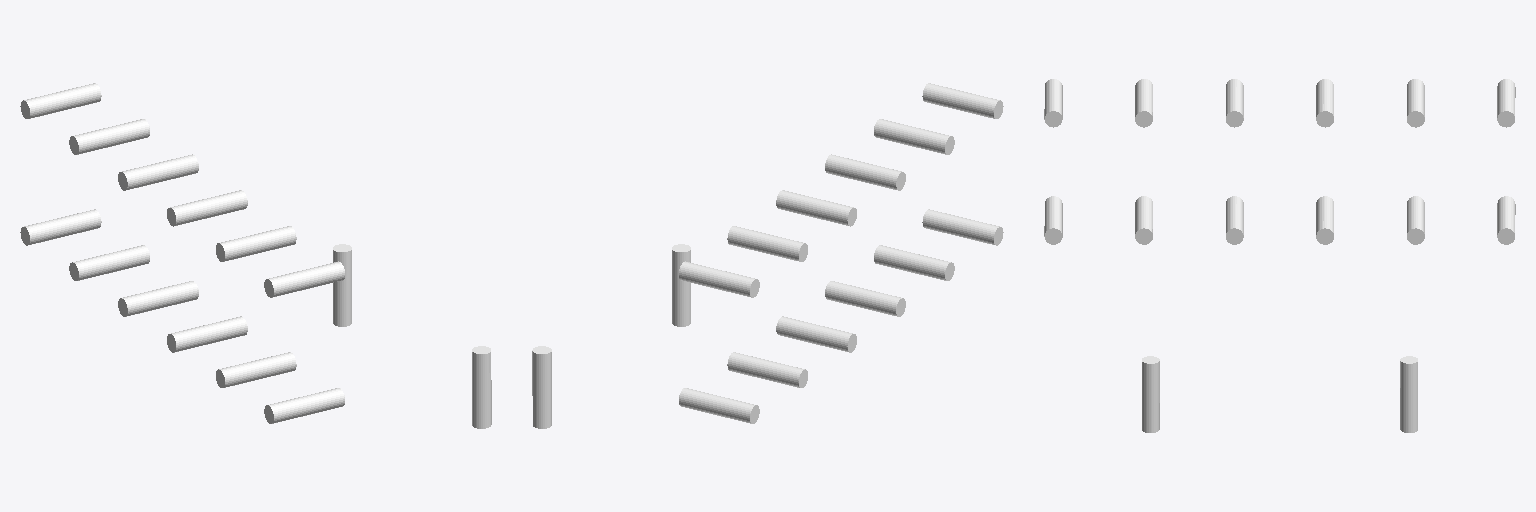
robot.urdf — ring_peg:
<?xml version="0.0" ?>
<robot name="ring_peg">
    <material name="WHITE">
        <color rgba="1 1 1 1"/>
    </material>

    <link name="baseLink">
        <!-- from lego/lego.urdf -->
        <inertial>
            <origin rpy="0 0 0" xyz="0 0 0"/>
            <mass value="10.0"/>
            <inertia ixx="1" ixy="0" ixz="0" iyy="1" iyz="0" izz="1"/>
        </inertial>
        <visual>
            <origin rpy="1.57 0 0" xyz="0 -1 0.4"/>
            <geometry>
                <!--        radius: 10mm, depth: 14.5mm-->
                <box size="0 0 0"/>
                <!--        <box size="0.002 0.002 0.002"/>-->
            </geometry>
            <material name="WHITE"/>
        </visual>
        <collision>
            <origin rpy="1.57 0 0" xyz="0 -1 0.4"/>
            <geometry>
                <box size="0 0 0"/>
                       <!-- <box size="2 2 2"/> -->
            </geometry>
        </collision>
    </link>

    <link name="vertical_peg_1">
        <!-- from lego/lego.urdf -->
        <inertial>
            <origin rpy="0 0 0" xyz="0 0 0"/>
            <mass value="10.0"/>
            <inertia ixx="1" ixy="0" ixz="0" iyy="1" iyz="0" izz="1"/>
        </inertial>
        <visual>
            <origin rpy="0 0 0" xyz="0 0 0"/>
            <geometry>
                <!--        radius: 10mm, depth: 14.5mm-->
                <mesh filename="meshes/ring_peg.obj" scale="0.75 0.75 0.75"/>
                <!--        <box size="0.002 0.002 0.002"/>-->
            </geometry>
            <material name="WHITE"/>
        </visual>
        <collision>
            <origin rpy="0 0 0" xyz="0 0 0"/>
            <geometry>
                <mesh filename="meshes/ring_peg_collision.obj" scale="0.75 0.75 0.75"/>
                       <!-- <box size="2 2 2"/> -->
            </geometry>
        </collision>
    </link>

    <joint name="vertical_joint_1" type="fixed">
        <parent link="baseLink"/>
        <child link="vertical_peg_1"/>
        <origin rpy="1.57 0 0" xyz="0 -1 0.4"/>
    </joint>

    <link name="vertical_peg_2">
        <!-- from lego/lego.urdf -->
        <inertial>
            <origin rpy="0 0 0" xyz="0 0 0"/>
            <mass value="10.0"/>
            <inertia ixx="1" ixy="0" ixz="0" iyy="1" iyz="0" izz="1"/>
        </inertial>
        <visual>
            <origin rpy="0 0 0" xyz="0 0 0"/>
            <geometry>
                <!--        radius: 10mm, depth: 14.5mm-->
                <mesh filename="meshes/ring_peg.obj" scale="0.75 0.75 0.75"/>
                <!--        <box size="0.002 0.002 0.002"/>-->
            </geometry>
            <material name="WHITE"/>
        </visual>
        <collision>
            <origin rpy="0 0 0" xyz="0 0 0"/>
            <geometry>
                <mesh filename="meshes/ring_peg_collision.obj" scale="0.75 0.75 0.75"/>
                       <!-- <box size="2 2 2"/> -->
            </geometry>
        </collision>
    </link>

    <joint name="vertical_joint_2" type="fixed">
        <parent link="baseLink"/>
        <child link="vertical_peg_2"/>
        <origin rpy="1.57 0 0" xyz="0 1 0.4"/>
    </joint>

    <link name="horizontal_peg_1">
        <!-- from lego/lego.urdf -->
        <inertial>
            <origin rpy="0 0 0" xyz="0 0 0"/>
            <mass value="10.0"/>
            <inertia ixx="1" ixy="0" ixz="0" iyy="1" iyz="0" izz="1"/>
        </inertial>
        <visual>
            <origin rpy="0 0 0" xyz="0 0 0"/>
            <geometry>
                <!--        radius: 10mm, depth: 14.5mm-->
                <mesh filename="meshes/ring_peg.obj" scale="0.75 0.75 0.75"/>
                <!--        <box size="0.002 0.002 0.002"/>-->
            </geometry>
            <material name="WHITE"/>
        </visual>
        <collision>
            <origin rpy="0 0 0" xyz="0 0 0"/>
            <geometry>
                <mesh filename="meshes/ring_peg_collision.obj" scale="0.75 0.75 0.75"/>
                       <!-- <box size="2 2 2"/> -->
            </geometry>
        </collision>
    </link>

    <joint name="horizontal_joint_1" type="fixed">
        <parent link="baseLink"/>
        <child link="horizontal_peg_1"/>
        <origin rpy="0 0 1.57" xyz="-1.9 -1.75 2"/>
    </joint>

    <link name="horizontal_peg_2">
        <!-- from lego/lego.urdf -->
        <inertial>
            <origin rpy="0 0 0" xyz="0 0 0"/>
            <mass value="10.0"/>
            <inertia ixx="1" ixy="0" ixz="0" iyy="1" iyz="0" izz="1"/>
        </inertial>
        <visual>
            <origin rpy="0 0 0" xyz="0 0 0"/>
            <geometry>
                <!--        radius: 10mm, depth: 14.5mm-->
                <mesh filename="meshes/ring_peg.obj" scale="0.75 0.75 0.75"/>
                <!--        <box size="0.002 0.002 0.002"/>-->
            </geometry>
            <material name="WHITE"/>
        </visual>
        <collision>
            <origin rpy="0 0 0" xyz="0 0 0"/>
            <geometry>
                <mesh filename="meshes/ring_peg_collision.obj" scale="0.75 0.75 0.75"/>
                       <!-- <box size="2 2 2"/> -->
            </geometry>
        </collision>
    </link>

    <joint name="horizontal_joint_2" type="fixed">
        <parent link="baseLink"/>
        <child link="horizontal_peg_2"/>
        <origin rpy="0 0 1.57" xyz="-1.9 -1.05 2"/>
    </joint>

    <link name="horizontal_peg_3">
        <!-- from lego/lego.urdf -->
        <inertial>
            <origin rpy="0 0 0" xyz="0 0 0"/>
            <mass value="10.0"/>
            <inertia ixx="1" ixy="0" ixz="0" iyy="1" iyz="0" izz="1"/>
        </inertial>
        <visual>
            <origin rpy="0 0 0" xyz="0 0 0"/>
            <geometry>
                <!--        radius: 10mm, depth: 14.5mm-->
                <mesh filename="meshes/ring_peg.obj" scale="0.75 0.75 0.75"/>
                <!--        <box size="0.002 0.002 0.002"/>-->
            </geometry>
            <material name="WHITE"/>
        </visual>
        <collision>
            <origin rpy="0 0 0" xyz="0 0 0"/>
            <geometry>
                <mesh filename="meshes/ring_peg_collision.obj" scale="0.75 0.75 0.75"/>
                       <!-- <box size="2 2 2"/> -->
            </geometry>
        </collision>
    </link>

    <joint name="horizontal_joint_3" type="fixed">
        <parent link="baseLink"/>
        <child link="horizontal_peg_3"/>
        <origin rpy="0 0 1.57" xyz="-1.9 -0.35 2"/>
    </joint>

    <link name="horizontal_peg_4">
        <!-- from lego/lego.urdf -->
        <inertial>
            <origin rpy="0 0 0" xyz="0 0 0"/>
            <mass value="10.0"/>
            <inertia ixx="1" ixy="0" ixz="0" iyy="1" iyz="0" izz="1"/>
        </inertial>
        <visual>
            <origin rpy="0 0 0" xyz="0 0 0"/>
            <geometry>
                <!--        radius: 10mm, depth: 14.5mm-->
                <mesh filename="meshes/ring_peg.obj" scale="0.75 0.75 0.75"/>
                <!--        <box size="0.002 0.002 0.002"/>-->
            </geometry>
            <material name="WHITE"/>
        </visual>
        <collision>
            <origin rpy="0 0 0" xyz="0 0 0"/>
            <geometry>
                <mesh filename="meshes/ring_peg_collision.obj" scale="0.75 0.75 0.75"/>
                       <!-- <box size="2 2 2"/> -->
            </geometry>
        </collision>
    </link>

    <joint name="horizontal_joint_4" type="fixed">
        <parent link="baseLink"/>
        <child link="horizontal_peg_4"/>
        <origin rpy="0 0 1.57" xyz="-1.9 0.35 2"/>
    </joint>

    <link name="horizontal_peg_5">
        <!-- from lego/lego.urdf -->
        <inertial>
            <origin rpy="0 0 0" xyz="0 0 0"/>
            <mass value="10.0"/>
            <inertia ixx="1" ixy="0" ixz="0" iyy="1" iyz="0" izz="1"/>
        </inertial>
        <visual>
            <origin rpy="0 0 0" xyz="0 0 0"/>
            <geometry>
                <!--        radius: 10mm, depth: 14.5mm-->
                <mesh filename="meshes/ring_peg.obj" scale="0.75 0.75 0.75"/>
                <!--        <box size="0.002 0.002 0.002"/>-->
            </geometry>
            <material name="WHITE"/>
        </visual>
        <collision>
            <origin rpy="0 0 0" xyz="0 0 0"/>
            <geometry>
                <mesh filename="meshes/ring_peg_collision.obj" scale="0.75 0.75 0.75"/>
                       <!-- <box size="2 2 2"/> -->
            </geometry>
        </collision>
    </link>

    <joint name="horizontal_joint_5" type="fixed">
        <parent link="baseLink"/>
        <child link="horizontal_peg_5"/>
        <origin rpy="0 0 1.57" xyz="-1.9 1.05 2"/>
    </joint>

    <link name="horizontal_peg_6">
        <!-- from lego/lego.urdf -->
        <inertial>
            <origin rpy="0 0 0" xyz="0 0 0"/>
            <mass value="10.0"/>
            <inertia ixx="1" ixy="0" ixz="0" iyy="1" iyz="0" izz="1"/>
        </inertial>
        <visual>
            <origin rpy="0 0 0" xyz="0 0 0"/>
            <geometry>
                <!--        radius: 10mm, depth: 14.5mm-->
                <mesh filename="meshes/ring_peg.obj" scale="0.75 0.75 0.75"/>
                <!--        <box size="0.002 0.002 0.002"/>-->
            </geometry>
            <material name="WHITE"/>
        </visual>
        <collision>
            <origin rpy="0 0 0" xyz="0 0 0"/>
            <geometry>
                <mesh filename="meshes/ring_peg_collision.obj" scale="0.75 0.75 0.75"/>
                       <!-- <box size="2 2 2"/> -->
            </geometry>
        </collision>
    </link>

    <joint name="horizontal_joint_6" type="fixed">
        <parent link="baseLink"/>
        <child link="horizontal_peg_6"/>
        <origin rpy="0 0 1.57" xyz="-1.9 1.75 2"/>
    </joint>

    <link name="horizontal_peg_7">
        <!-- from lego/lego.urdf -->
        <inertial>
            <origin rpy="0 0 0" xyz="0 0 0"/>
            <mass value="10.0"/>
            <inertia ixx="1" ixy="0" ixz="0" iyy="1" iyz="0" izz="1"/>
        </inertial>
        <visual>
            <origin rpy="0 0 0" xyz="0 0 0"/>
            <geometry>
                <!--        radius: 10mm, depth: 14.5mm-->
                <mesh filename="meshes/ring_peg.obj" scale="0.75 0.75 0.75"/>
                <!--        <box size="0.002 0.002 0.002"/>-->
            </geometry>
            <material name="WHITE"/>
        </visual>
        <collision>
            <origin rpy="0 0 0" xyz="0 0 0"/>
            <geometry>
                <mesh filename="meshes/ring_peg_collision.obj" scale="0.75 0.75 0.75"/>
                       <!-- <box size="2 2 2"/> -->
            </geometry>
        </collision>
    </link>

    <joint name="horizontal_joint_7" type="fixed">
        <parent link="baseLink"/>
        <child link="horizontal_peg_7"/>
        <origin rpy="0 0 1.57" xyz="-1.9 -1.75 1 "/>
    </joint>

    <link name="horizontal_peg_8">
        <!-- from lego/lego.urdf -->
        <inertial>
            <origin rpy="0 0 0" xyz="0 0 0"/>
            <mass value="10.0"/>
            <inertia ixx="1" ixy="0" ixz="0" iyy="1" iyz="0" izz="1"/>
        </inertial>
        <visual>
            <origin rpy="0 0 0" xyz="0 0 0"/>
            <geometry>
                <!--        radius: 10mm, depth: 14.5mm-->
                <mesh filename="meshes/ring_peg.obj" scale="0.75 0.75 0.75"/>
                <!--        <box size="0.002 0.002 0.002"/>-->
            </geometry>
            <material name="WHITE"/>
        </visual>
        <collision>
            <origin rpy="0 0 0" xyz="0 0 0"/>
            <geometry>
                <mesh filename="meshes/ring_peg_collision.obj" scale="0.75 0.75 0.75"/>
                       <!-- <box size="2 2 2"/> -->
            </geometry>
        </collision>
    </link>

    <joint name="horizontal_joint_8" type="fixed">
        <parent link="baseLink"/>
        <child link="horizontal_peg_8"/>
        <origin rpy="0 0 1.57" xyz="-1.9 -1.05 1"/>
    </joint>

    <link name="horizontal_peg_9">
        <!-- from lego/lego.urdf -->
        <inertial>
            <origin rpy="0 0 0" xyz="0 0 0"/>
            <mass value="10.0"/>
            <inertia ixx="1" ixy="0" ixz="0" iyy="1" iyz="0" izz="1"/>
        </inertial>
        <visual>
            <origin rpy="0 0 0" xyz="0 0 0"/>
            <geometry>
                <!--        radius: 10mm, depth: 14.5mm-->
                <mesh filename="meshes/ring_peg.obj" scale="0.75 0.75 0.75"/>
                <!--        <box size="0.002 0.002 0.002"/>-->
            </geometry>
            <material name="WHITE"/>
        </visual>
        <collision>
            <origin rpy="0 0 0" xyz="0 0 0"/>
            <geometry>
                <mesh filename="meshes/ring_peg_collision.obj" scale="0.75 0.75 0.75"/>
                       <!-- <box size="2 2 2"/> -->
            </geometry>
        </collision>
    </link>

    <joint name="horizontal_joint_9" type="fixed">
        <parent link="baseLink"/>
        <child link="horizontal_peg_9"/>
        <origin rpy="0 0 1.57" xyz="-1.9 -0.35 1"/>
    </joint>

    <link name="horizontal_peg_10">
        <!-- from lego/lego.urdf -->
        <inertial>
            <origin rpy="0 0 0" xyz="0 0 0"/>
            <mass value="10.0"/>
            <inertia ixx="1" ixy="0" ixz="0" iyy="1" iyz="0" izz="1"/>
        </inertial>
        <visual>
            <origin rpy="0 0 0" xyz="0 0 0"/>
            <geometry>
                <!--        radius: 10mm, depth: 14.5mm-->
                <mesh filename="meshes/ring_peg.obj" scale="0.75 0.75 0.75"/>
                <!--        <box size="0.002 0.002 0.002"/>-->
            </geometry>
            <material name="WHITE"/>
        </visual>
        <collision>
            <origin rpy="0 0 0" xyz="0 0 0"/>
            <geometry>
                <mesh filename="meshes/ring_peg_collision.obj" scale="0.75 0.75 0.75"/>
                       <!-- <box size="2 2 2"/> -->
            </geometry>
        </collision>
    </link>

    <joint name="horizontal_joint_10" type="fixed">
        <parent link="baseLink"/>
        <child link="horizontal_peg_10"/>
        <origin rpy="0 0 1.57" xyz="-1.9 0.35 1"/>
    </joint>

    <link name="horizontal_peg_11">
        <!-- from lego/lego.urdf -->
        <inertial>
            <origin rpy="0 0 0" xyz="0 0 0"/>
            <mass value="10.0"/>
            <inertia ixx="1" ixy="0" ixz="0" iyy="1" iyz="0" izz="1"/>
        </inertial>
        <visual>
            <origin rpy="0 0 0" xyz="0 0 0"/>
            <geometry>
                <!--        radius: 10mm, depth: 14.5mm-->
                <mesh filename="meshes/ring_peg.obj" scale="0.75 0.75 0.75"/>
                <!--        <box size="0.002 0.002 0.002"/>-->
            </geometry>
            <material name="WHITE"/>
        </visual>
        <collision>
            <origin rpy="0 0 0" xyz="0 0 0"/>
            <geometry>
                <mesh filename="meshes/ring_peg_collision.obj" scale="0.75 0.75 0.75"/>
                       <!-- <box size="2 2 2"/> -->
            </geometry>
        </collision>
    </link>

    <joint name="horizontal_joint_11" type="fixed">
        <parent link="baseLink"/>
        <child link="horizontal_peg_11"/>
        <origin rpy="0 0 1.57" xyz="-1.9 1.05 1"/>
    </joint>

    <link name="horizontal_peg_12">
        <!-- from lego/lego.urdf -->
        <inertial>
            <origin rpy="0 0 0" xyz="0 0 0"/>
            <mass value="10.0"/>
            <inertia ixx="1" ixy="0" ixz="0" iyy="1" iyz="0" izz="1"/>
        </inertial>
        <visual>
            <origin rpy="0 0 0" xyz="0 0 0"/>
            <geometry>
                <!--        radius: 10mm, depth: 14.5mm-->
                <mesh filename="meshes/ring_peg.obj" scale="0.75 0.75 0.75"/>
                <!--        <box size="0.002 0.002 0.002"/>-->
            </geometry>
            <material name="WHITE"/>
        </visual>
        <collision>
            <origin rpy="0 0 0" xyz="0 0 0"/>
            <geometry>
                <mesh filename="meshes/ring_peg_collision.obj" scale="0.75 0.75 0.75"/>
                       <!-- <box size="2 2 2"/> -->
            </geometry>
        </collision>
    </link>

    <joint name="horizontal_joint_12" type="fixed">
        <parent link="baseLink"/>
        <child link="horizontal_peg_12"/>
        <origin rpy="0 0 1.57" xyz="-1.9 1.75 1"/>
    </joint>

</robot>

--- Facts derived from the render (not from the file) ---
3 views of the same robot in one strip: view 1: azimuth 30°, elevation 25°; view 2: azimuth 150°, elevation 25°; view 3: azimuth 270°, elevation 25° (orthographic).
Model ring_peg with 15 links and 14 joints (14 fixed), rooted at baseLink, posed every joint at zero.
Links seen in each view (by area): view 1: vertical_peg_1, horizontal_peg_4, horizontal_peg_1, horizontal_peg_9, horizontal_peg_3, horizontal_peg_2, horizontal_peg_5, horizontal_peg_7, horizontal_peg_10, horizontal_peg_6, horizontal_peg_8, horizontal_peg_12 (+2 smaller); view 2: vertical_peg_2, horizontal_peg_3, horizontal_peg_6, horizontal_peg_9, horizontal_peg_4, horizontal_peg_12, horizontal_peg_2, horizontal_peg_5, horizontal_peg_10, horizontal_peg_11, horizontal_peg_8, horizontal_peg_1 (+2 smaller); view 3: vertical_peg_1, vertical_peg_2, horizontal_peg_12, horizontal_peg_7, horizontal_peg_6, horizontal_peg_1, horizontal_peg_10, horizontal_peg_8, horizontal_peg_9, horizontal_peg_5, horizontal_peg_11, horizontal_peg_2 (+2 smaller).
Link boxes in pixels (left/top/right/bottom): vertical_peg_1: left=472, top=346, right=491, bottom=428; horizontal_peg_4: left=118, top=154, right=198, bottom=190; horizontal_peg_1: left=264, top=261, right=344, bottom=297; horizontal_peg_9: left=167, top=316, right=247, bottom=352; horizontal_peg_3: left=167, top=190, right=247, bottom=226; horizontal_peg_2: left=216, top=226, right=296, bottom=261; horizontal_peg_5: left=69, top=119, right=149, bottom=154; horizontal_peg_7: left=264, top=388, right=344, bottom=423; horizontal_peg_10: left=118, top=281, right=198, bottom=316; horizontal_peg_6: left=20, top=83, right=101, bottom=118; horizontal_peg_8: left=216, top=352, right=296, bottom=387; horizontal_peg_12: left=20, top=209, right=101, bottom=245; vertical_peg_2: left=532, top=346, right=551, bottom=428; horizontal_peg_3: left=825, top=154, right=905, bottom=190; horizontal_peg_6: left=679, top=261, right=759, bottom=297; horizontal_peg_9: left=825, top=281, right=905, bottom=316; horizontal_peg_4: left=776, top=190, right=856, bottom=226; horizontal_peg_12: left=679, top=388, right=759, bottom=423; horizontal_peg_2: left=874, top=119, right=954, bottom=154; horizontal_peg_5: left=727, top=226, right=807, bottom=261; horizontal_peg_10: left=776, top=316, right=856, bottom=352; horizontal_peg_11: left=727, top=352, right=807, bottom=387; horizontal_peg_8: left=874, top=245, right=954, bottom=280; horizontal_peg_1: left=922, top=83, right=1003, bottom=118; vertical_peg_1: left=1142, top=356, right=1159, bottom=432; vertical_peg_2: left=1400, top=356, right=1417, bottom=432; horizontal_peg_12: left=1497, top=196, right=1515, bottom=244; horizontal_peg_7: left=1044, top=196, right=1062, bottom=244; horizontal_peg_6: left=1497, top=79, right=1515, bottom=127; horizontal_peg_1: left=1044, top=79, right=1062, bottom=127; horizontal_peg_10: left=1316, top=196, right=1333, bottom=244; horizontal_peg_8: left=1135, top=196, right=1152, bottom=244; horizontal_peg_9: left=1226, top=196, right=1243, bottom=244; horizontal_peg_5: left=1407, top=79, right=1424, bottom=127; horizontal_peg_11: left=1407, top=196, right=1424, bottom=244; horizontal_peg_2: left=1135, top=79, right=1152, bottom=127.
Bounding box of the posed robot: 2.27 × 3.64 × 1.97 m (x, y, z).
Meshes: 1 distinct files referenced, 14 mesh visuals loaded (1 OBJ).